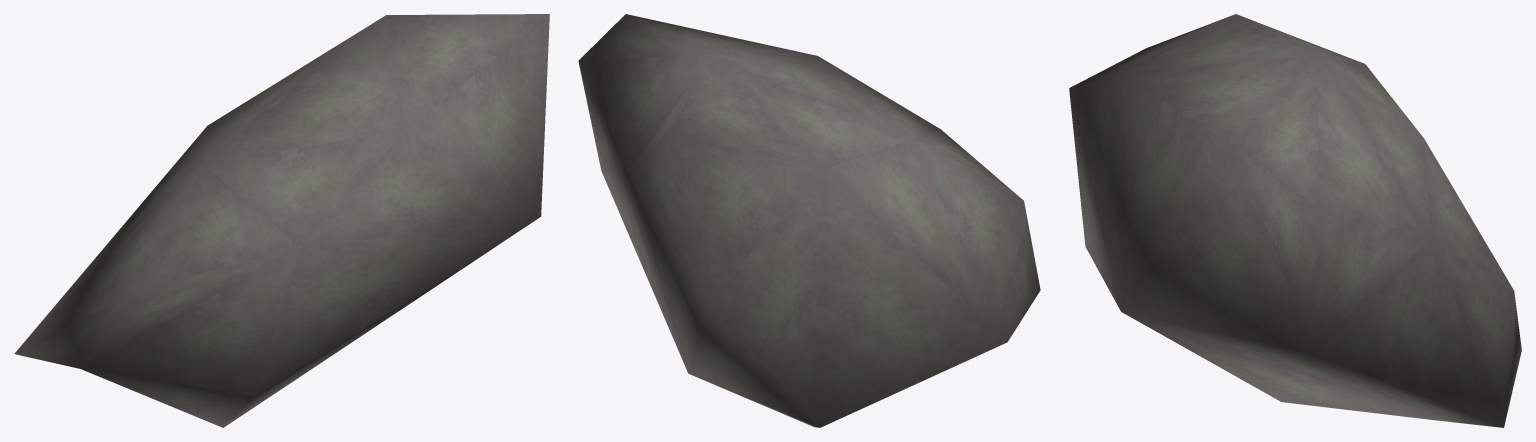
Rendered from Stones_5.fbx.
3 renders of one model, left to right at view 1: azimuth 30°, elevation 25°; view 2: azimuth 150°, elevation 25°; view 3: azimuth 270°, elevation 25°, orthographic. The views are drawn at different scales.
Parts seen in each view (by area): view 1: Stones.009; view 2: Stones.009; view 3: Stones.009.
Part boxes in pixels (x1=…): Stones.009: x1=14, y1=14, x2=549, y2=427; Stones.009: x1=578, y1=14, x2=1040, y2=427; Stones.009: x1=1069, y1=14, x2=1521, y2=427.
Bounding box in the file's own units: 55.19 × 37.6 × 32.58.
